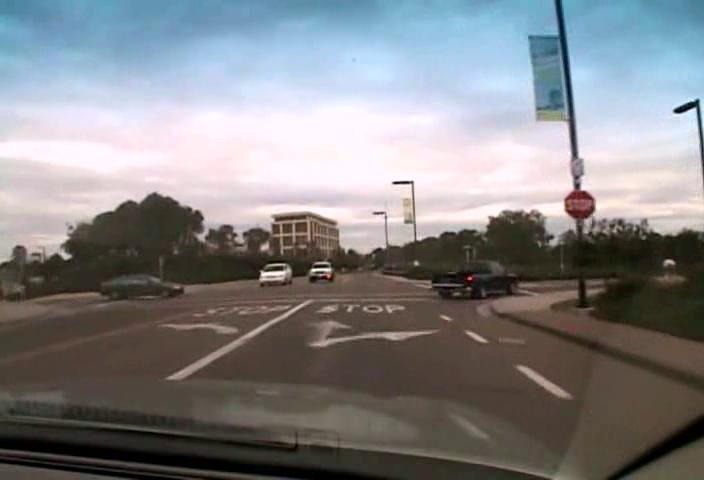stop: (563, 189, 596, 220)
